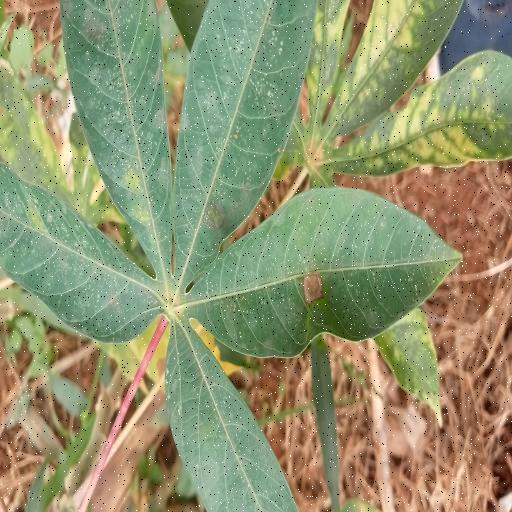Cassava_Brown_Leaf_Spot: (0, 1, 458, 512)
